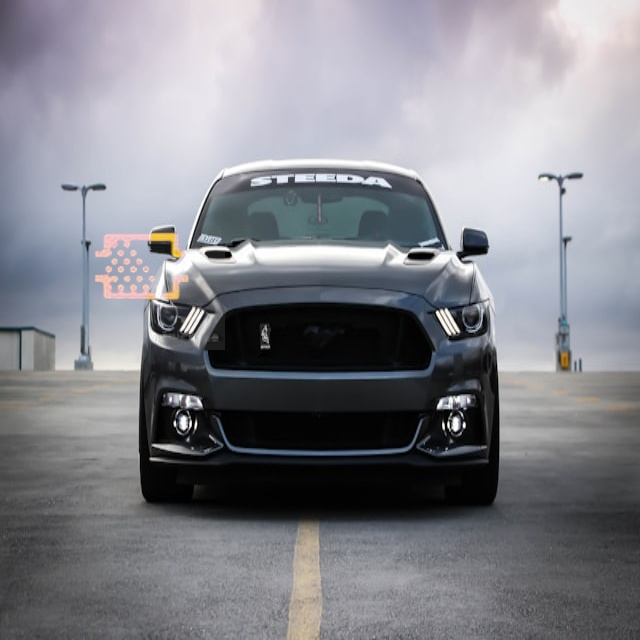symbol: (60, 185, 225, 350)
